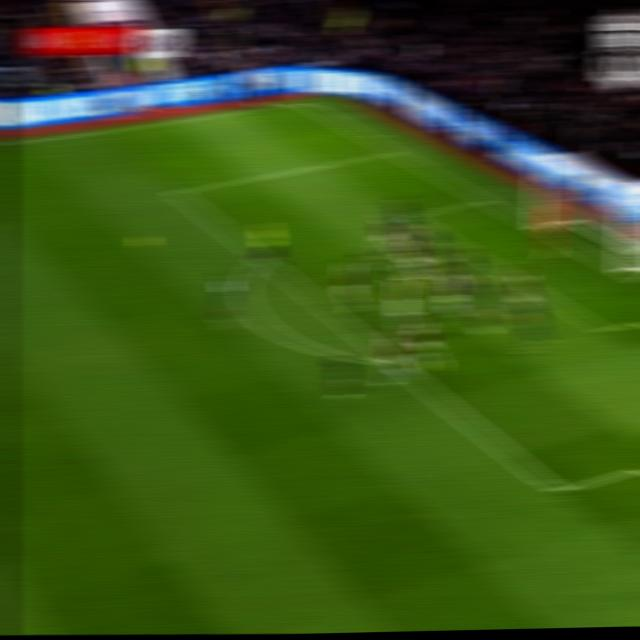bigarea_bottom_inner: (541, 475, 572, 507)
bigarea_top_inner: (164, 182, 187, 202)
bigarea_top_outter: (382, 144, 403, 156)
corner: (289, 97, 314, 105)
smallarea_bottom_inner: (589, 315, 618, 342)
smallarea_top_inner: (401, 207, 423, 224)
smallarea_top_outter: (470, 192, 495, 207)
top_arc_area_intersection: (251, 249, 272, 265)
